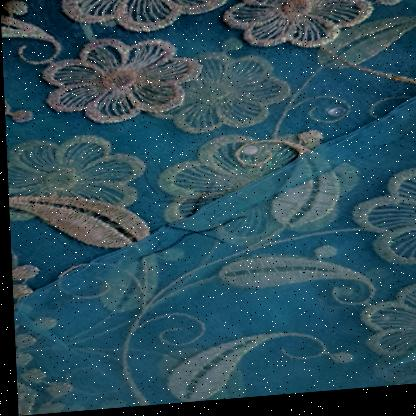spot: (125, 214, 257, 275), (136, 177, 235, 224)
